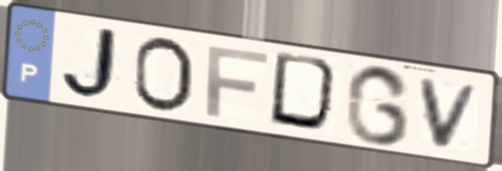D: (266, 49, 346, 137)
F: (203, 43, 271, 120)
G: (342, 63, 413, 148)
J: (59, 25, 127, 103)
O: (130, 33, 195, 115)
V: (416, 76, 486, 152)
